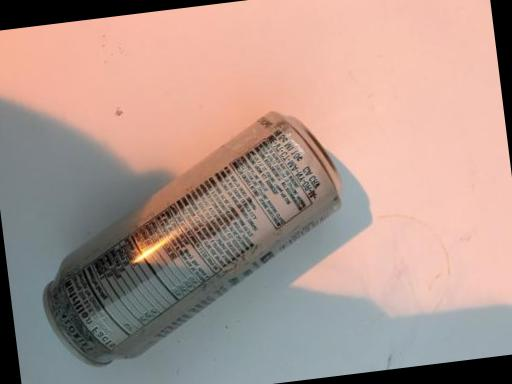metal: (17, 70, 370, 384)
